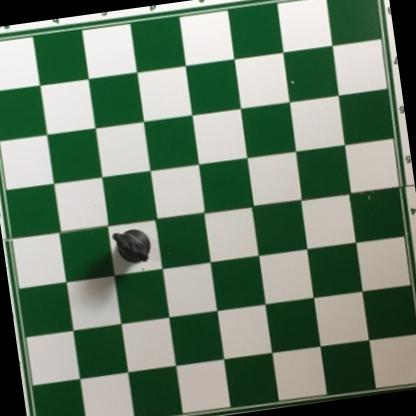black-knight: (109, 226, 156, 267)
